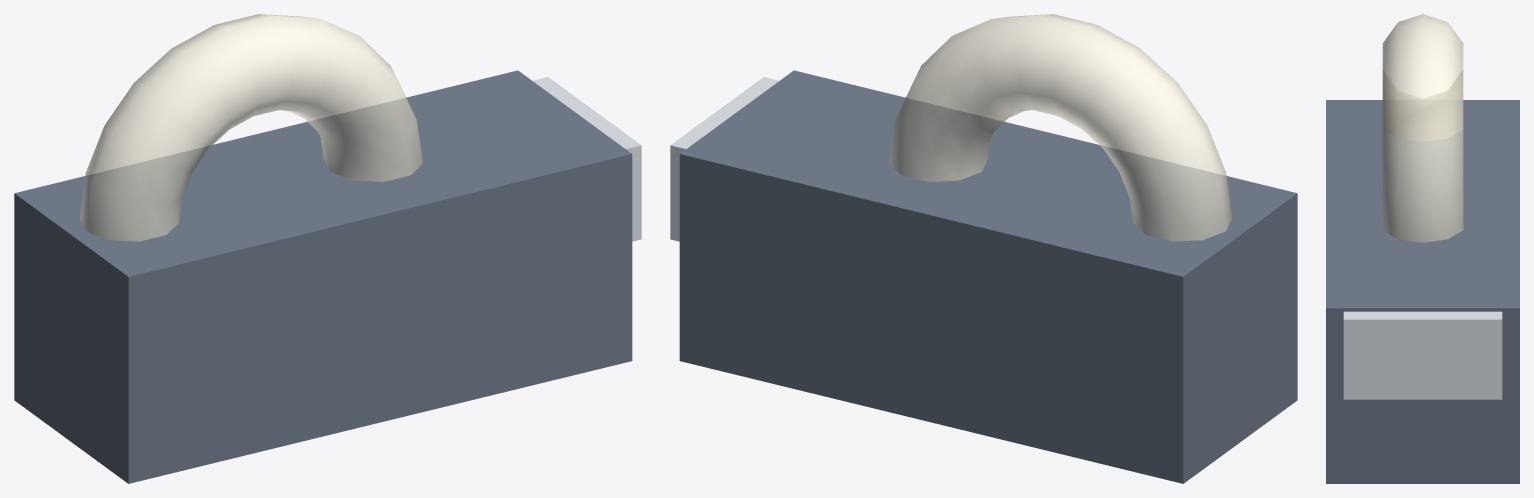
File: ch5_prop_tape_roll.glb
The picture shows the model from 3 angles, left to right: view 1: azimuth 30°, elevation 25°; view 2: azimuth 150°, elevation 25°; view 3: azimuth 270°, elevation 25°; orthographic projection. The views are drawn at different scales.
Visible parts, largest first — view 1: ch5_prop_tape_roll; view 2: ch5_prop_tape_roll; view 3: ch5_prop_tape_roll.
Boxes of the visible parts, left/top/right/bottom form: ch5_prop_tape_roll: left=14, top=14, right=641, bottom=483; ch5_prop_tape_roll: left=670, top=14, right=1297, bottom=483; ch5_prop_tape_roll: left=1326, top=14, right=1519, bottom=483.
Size of the model in its own units: 0.1455 by 0.1 by 0.055.
